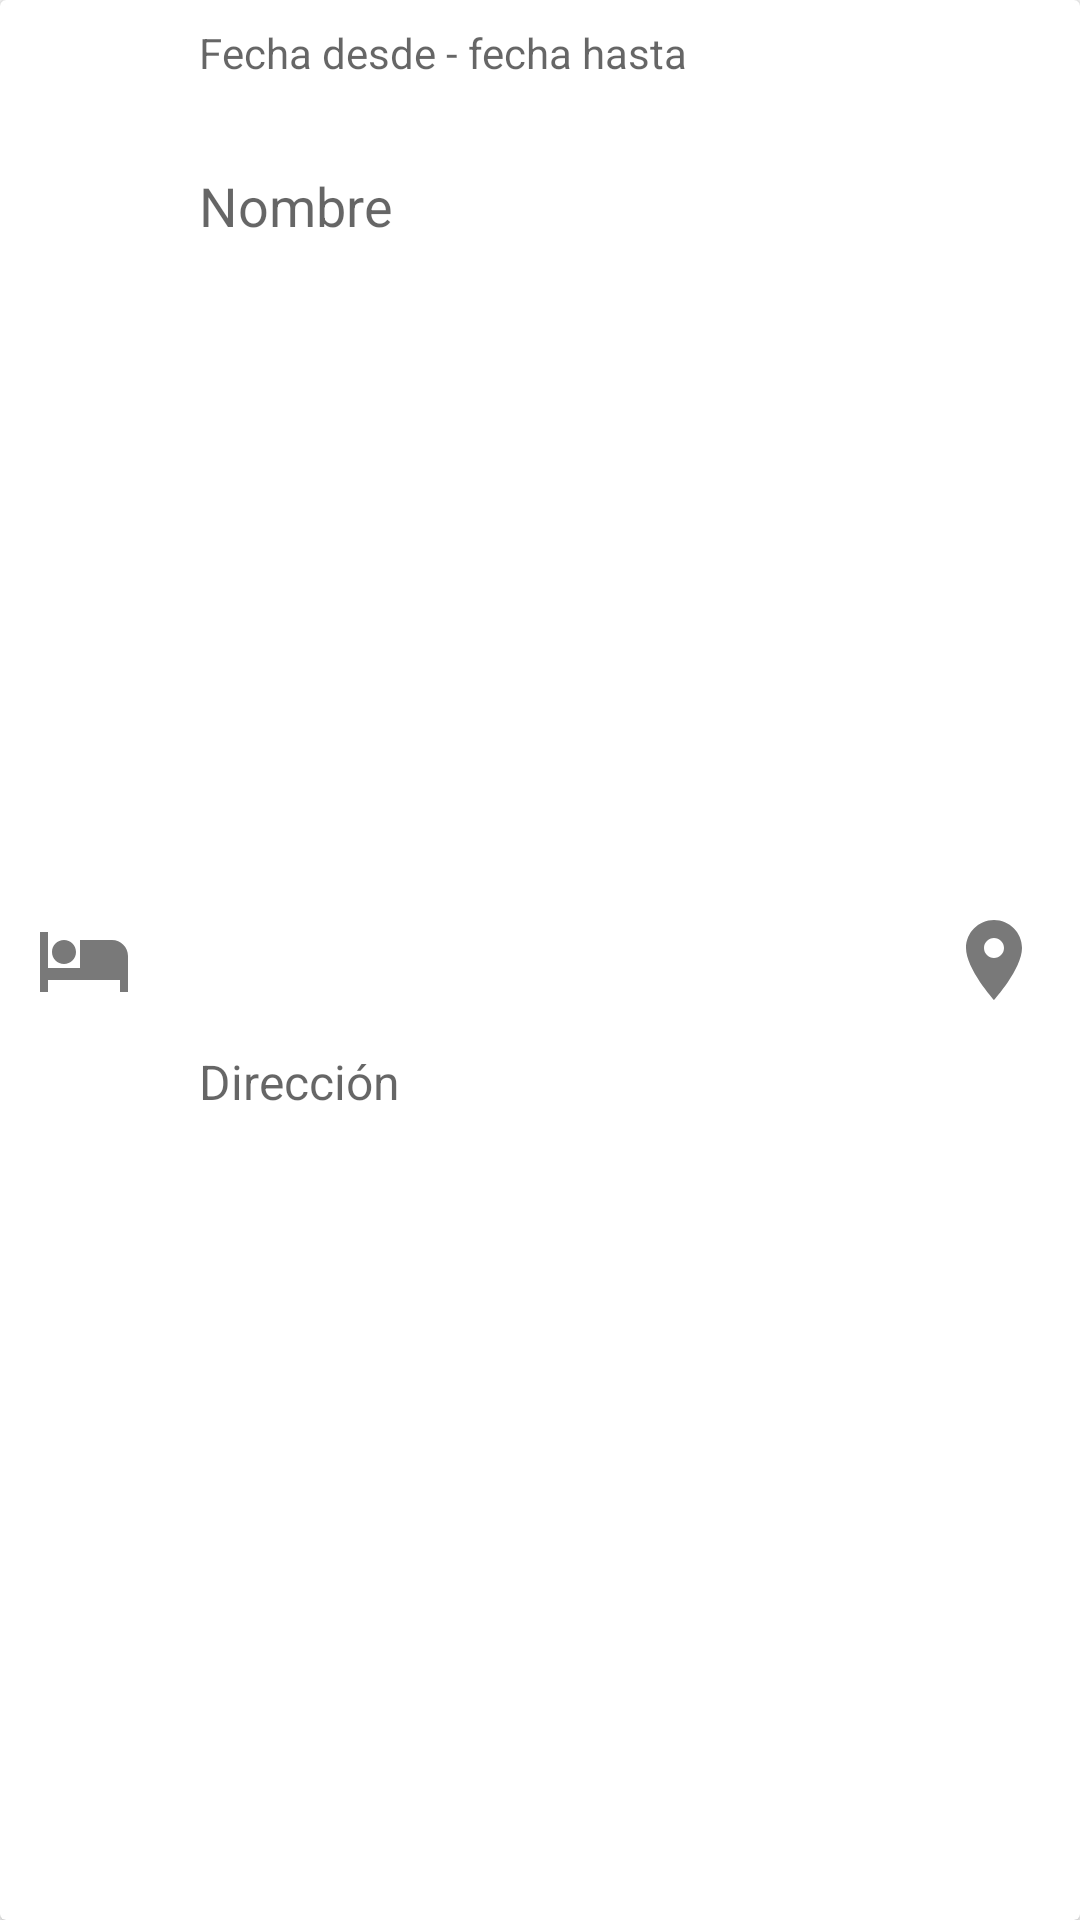

Where to tap for icons on this 1080*1920 app screen, as (x,y):
hotel: (84,962)
place: (994,960)
